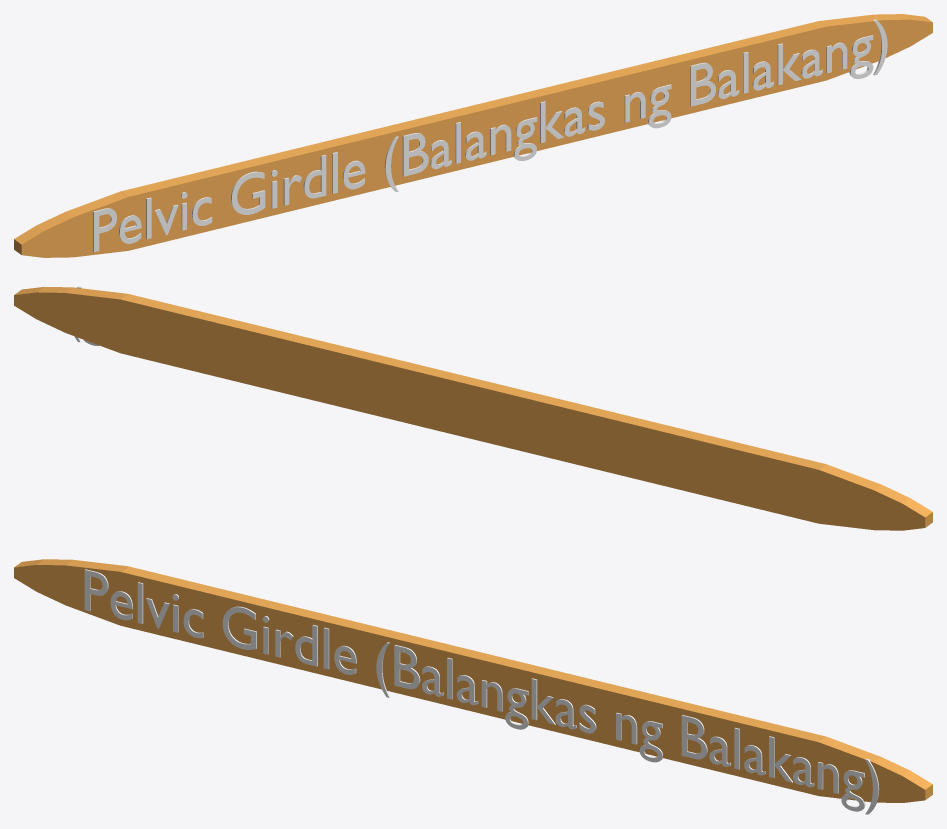
Rendered from txtPelvicGirdle.fbx.
3 renders of one model, top to bottom at view 1: azimuth 30°, elevation 25°; view 2: azimuth 150°, elevation 25°; view 3: azimuth 330°, elevation 25°, orthographic.
Visible parts, largest first — view 1: TagContainer.098, Text.100; view 2: TagContainer.098; view 3: TagContainer.098, Text.100.
Boxes of the visible parts, x1,y1,x2,y2 form: TagContainer.098: (14, 14, 932, 257); Text.100: (93, 19, 887, 252); TagContainer.098: (14, 286, 932, 530); TagContainer.098: (14, 559, 932, 802); Text.100: (84, 569, 879, 814).
Bounding box in the file's own units: 731 × 45.8 × 11.76.
